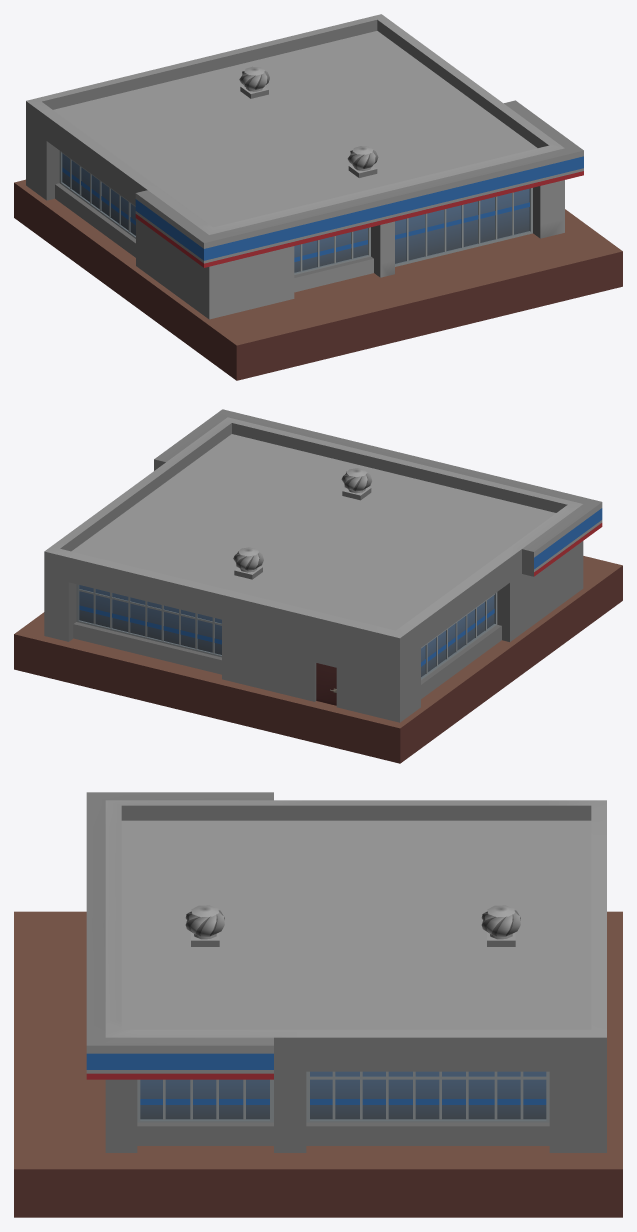
Rendered from buildings-business-conveniencestore_v1.glb.
The picture shows the model from 3 angles, top to bottom: view 1: azimuth 30°, elevation 25°; view 2: azimuth 150°, elevation 25°; view 3: azimuth 270°, elevation 25°; orthographic projection. The views are drawn at different scales.
Parts seen in each view (by area): view 1: ConvenienceStore_v1_base, ConvenienceStore_v1_windowRefl, ConvenienceStore_v1_refl; view 2: ConvenienceStore_v1_base, ConvenienceStore_v1_windowRefl, ConvenienceStore_v1_refl; view 3: ConvenienceStore_v1_base, ConvenienceStore_v1_windowRefl, ConvenienceStore_v1_refl, ConvenienceStore_v1_vent2_anim_0_90_0, ConvenienceStore_v1_vent1_anim_0_90_0.
Part boxes in pixels (<box>): ConvenienceStore_v1_base: <box>14,14,622,380</box>; ConvenienceStore_v1_windowRefl: <box>62,153,529,272</box>; ConvenienceStore_v1_refl: <box>240,66,377,177</box>; ConvenienceStore_v1_base: <box>14,409,622,763</box>; ConvenienceStore_v1_windowRefl: <box>79,585,494,676</box>; ConvenienceStore_v1_refl: <box>234,468,371,692</box>; ConvenienceStore_v1_base: <box>14,792,622,1217</box>; ConvenienceStore_v1_windowRefl: <box>140,1071,546,1119</box>; ConvenienceStore_v1_refl: <box>191,905,515,946</box>; ConvenienceStore_v1_vent2_anim_0_90_0: <box>481,910,520,936</box>; ConvenienceStore_v1_vent1_anim_0_90_0: <box>185,910,224,936</box>.
Size of the model in its own units: 23.72 by 7.68 by 23.33.
